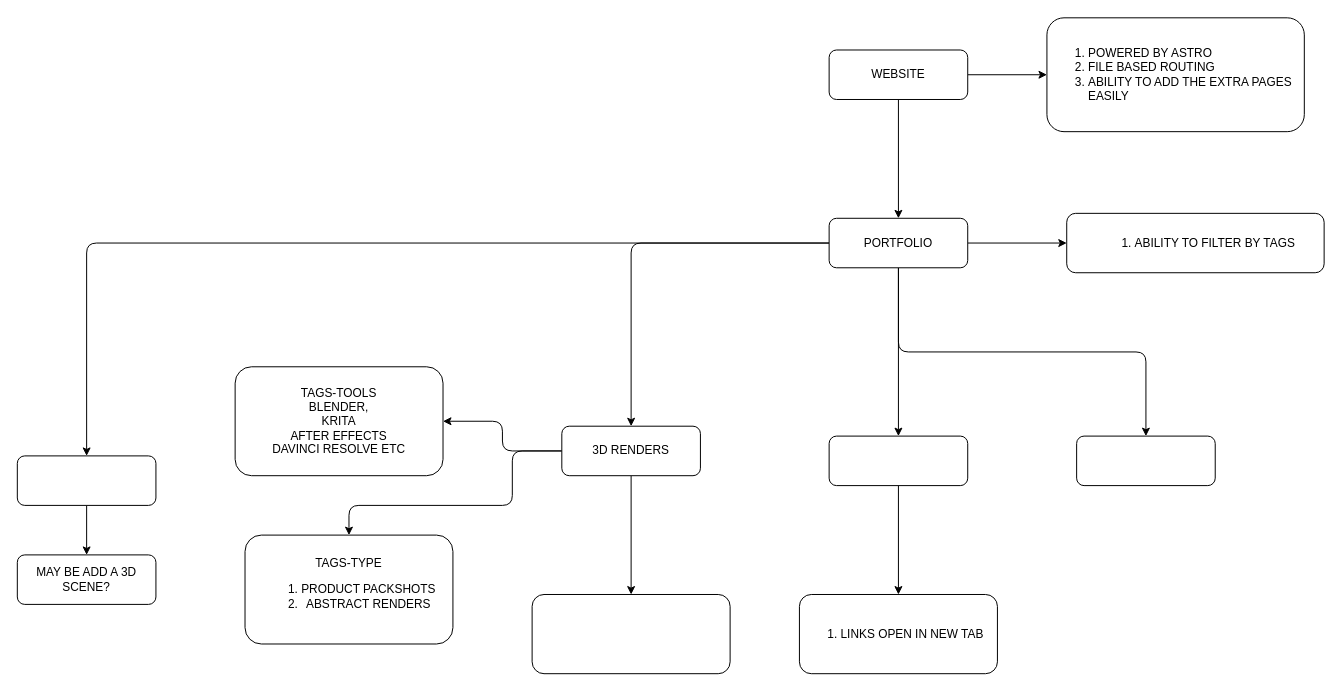
The diagram is 1341 pixels wide and 691 high, and some of its shapes have lost their labels. The shapes that lost their labels are listed below. From the top down, each one's centre as x and y in pixels, then its label:
the point at 86,480: HOME
the point at 898,460: WEB GL PROJECTS
the point at 1145,460: ABOUT PAGE
the point at 630,634: THE RENDERED IMAGES AND BREAKDOWN ARE SPECIFIED IN THE .MDX
